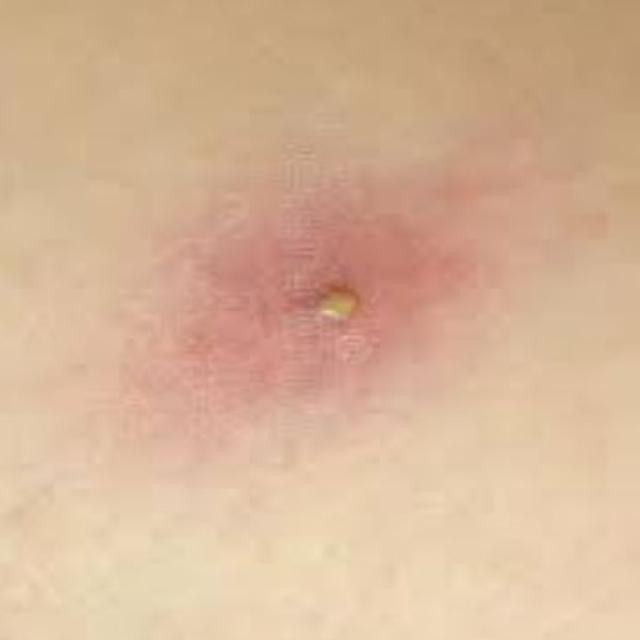pustule: (285, 259, 421, 390)
